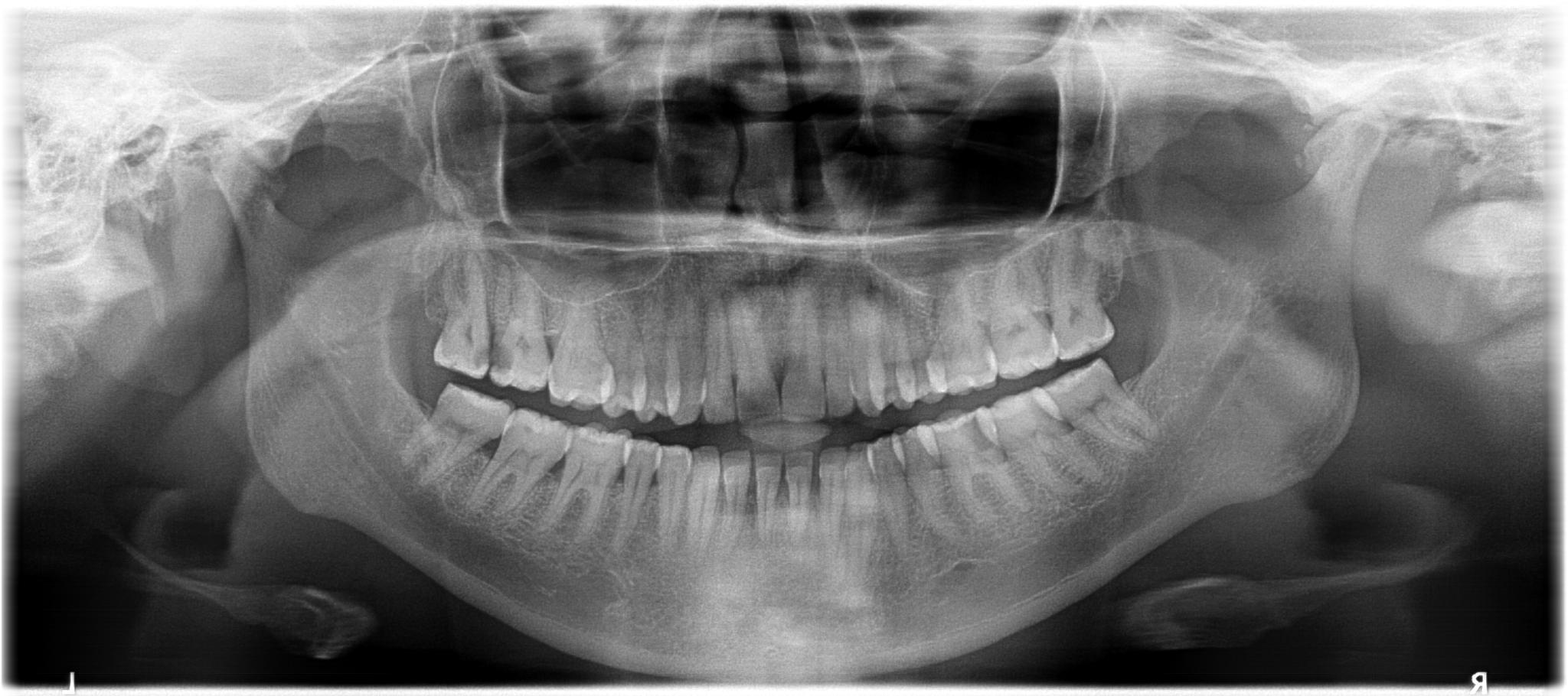Premolars: (507, 232, 1487, 634), (571, 171, 1568, 533), (305, 256, 937, 688), (277, 200, 787, 605), (257, 119, 745, 398), (246, 173, 735, 424)
